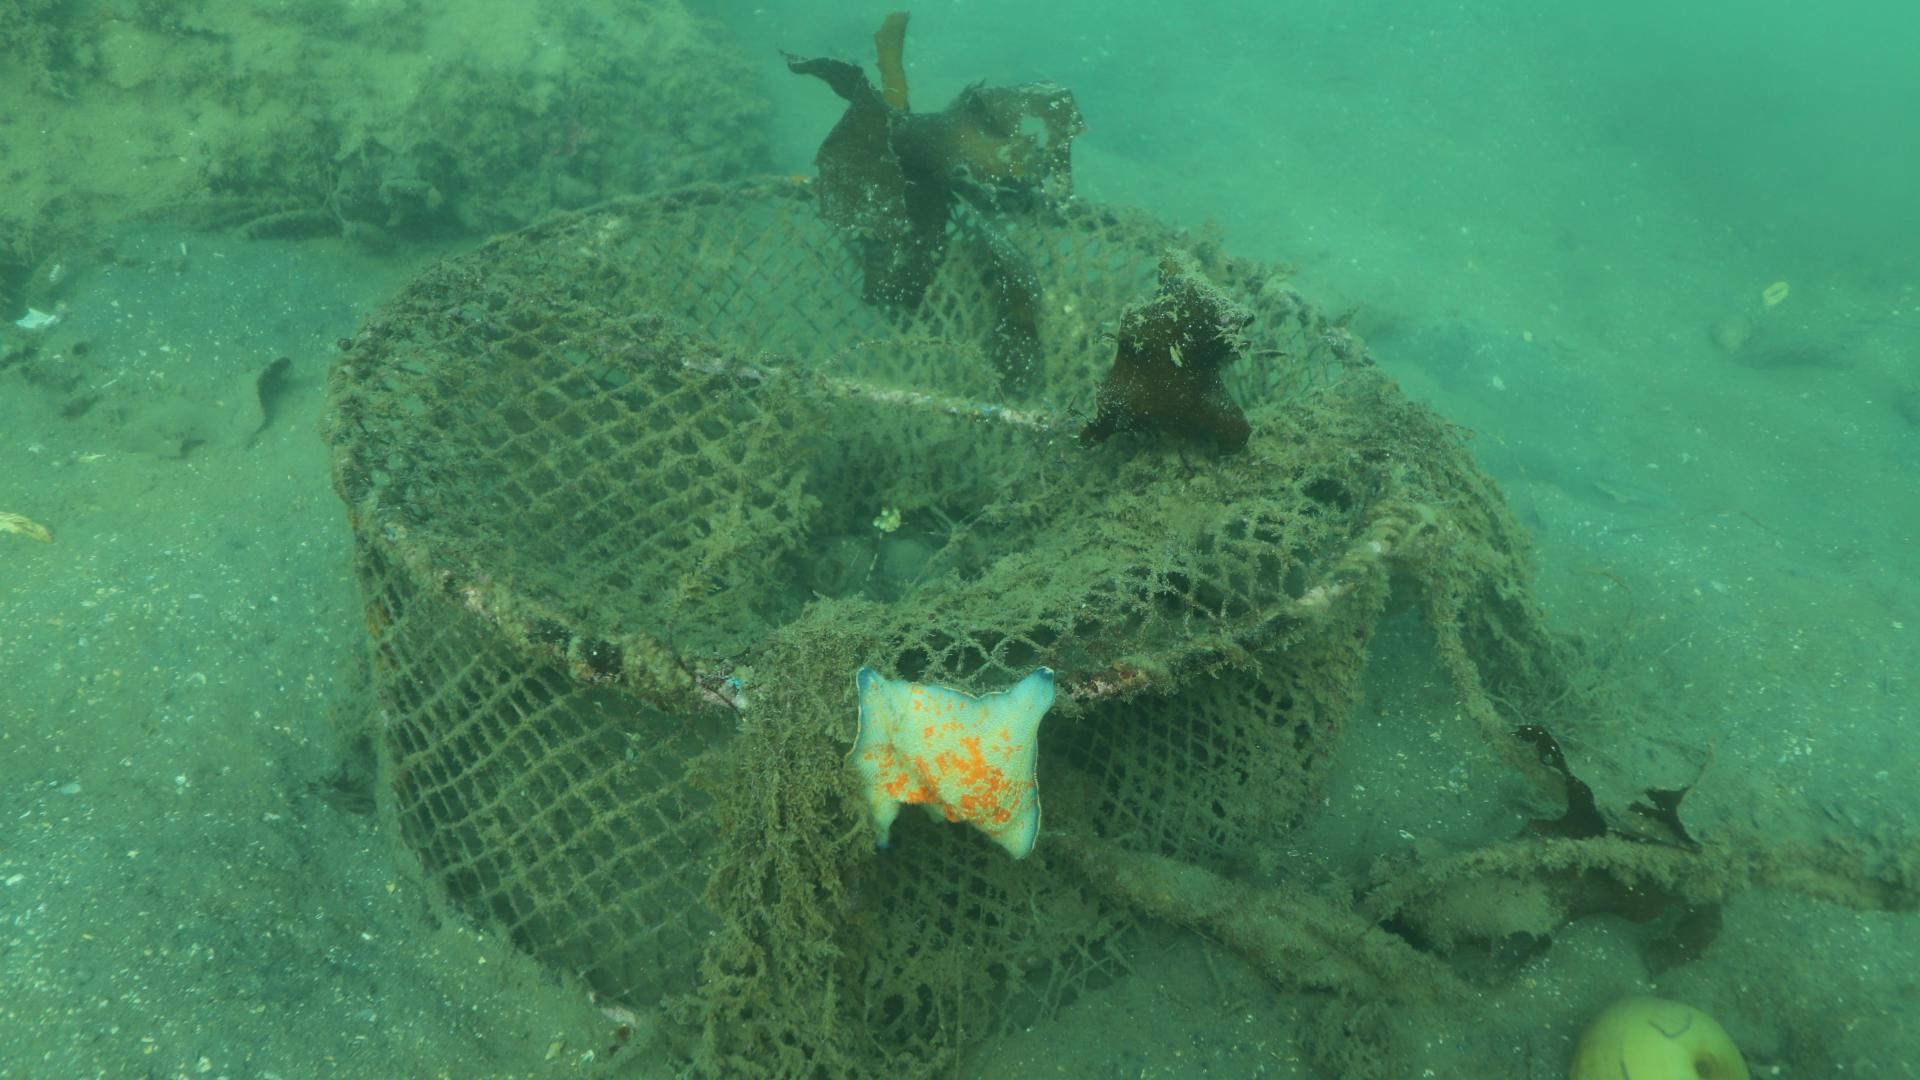circular fish trap: (315, 167, 1420, 1080)
